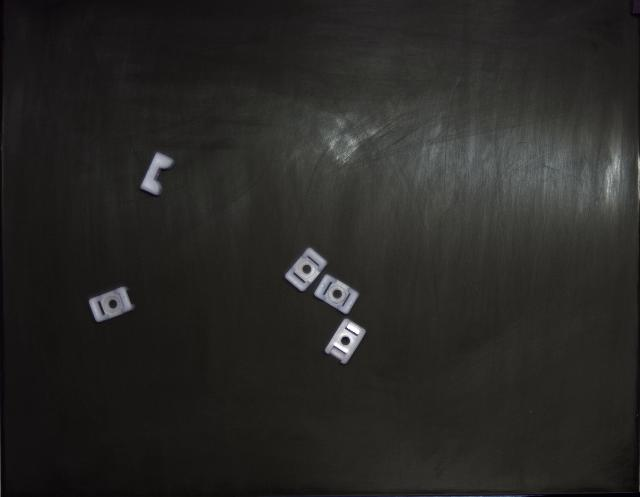first_side: (285, 248, 328, 291), (314, 275, 359, 314), (89, 286, 135, 322)
second_side: (325, 320, 365, 364)
third_side: (140, 152, 175, 196)
